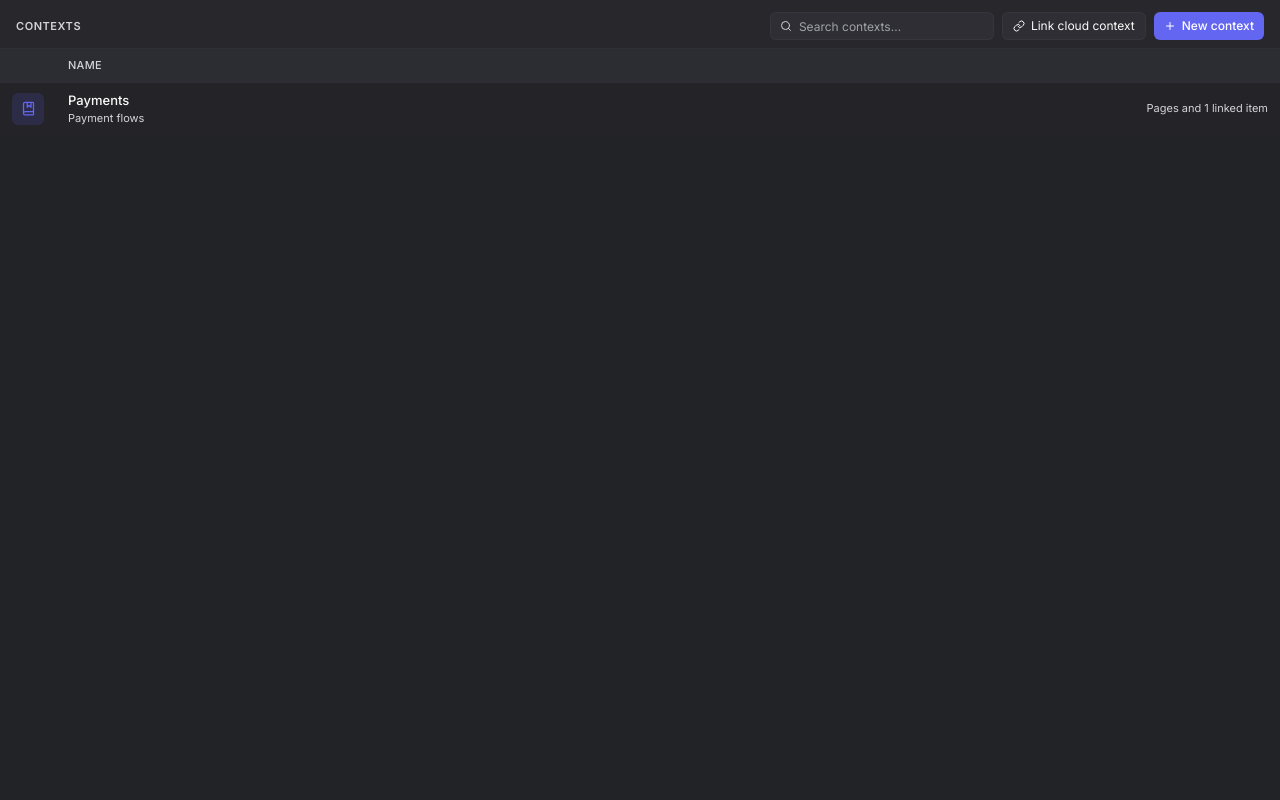
Scenario: Contexts › shows pages as a folder tree and linked material by name
What coordinates should you click on to do the following:
click the text "Payments"
I would click on:
 (99, 100)
Its box is [68, 92, 129, 108].
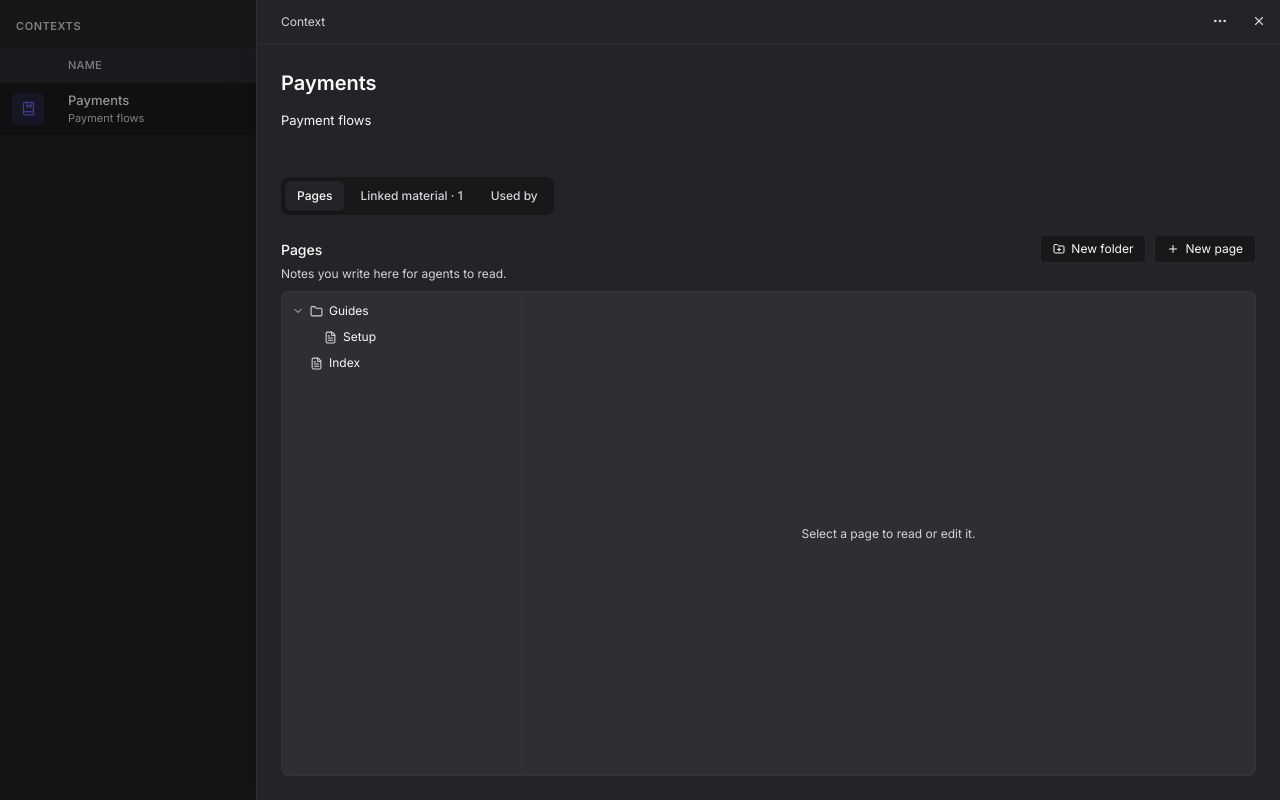
Expected: the text "Guides" is shown, [329, 302, 369, 320]
Expected: the text "Setup" is shown, [343, 328, 376, 346]
Expected: the text "Index" is shown, [329, 354, 360, 372]
What coordinates should you click on to do the following:
click the tab "Linked material · 1"
I would click on:
 (412, 196)
Its box is [348, 181, 475, 211].
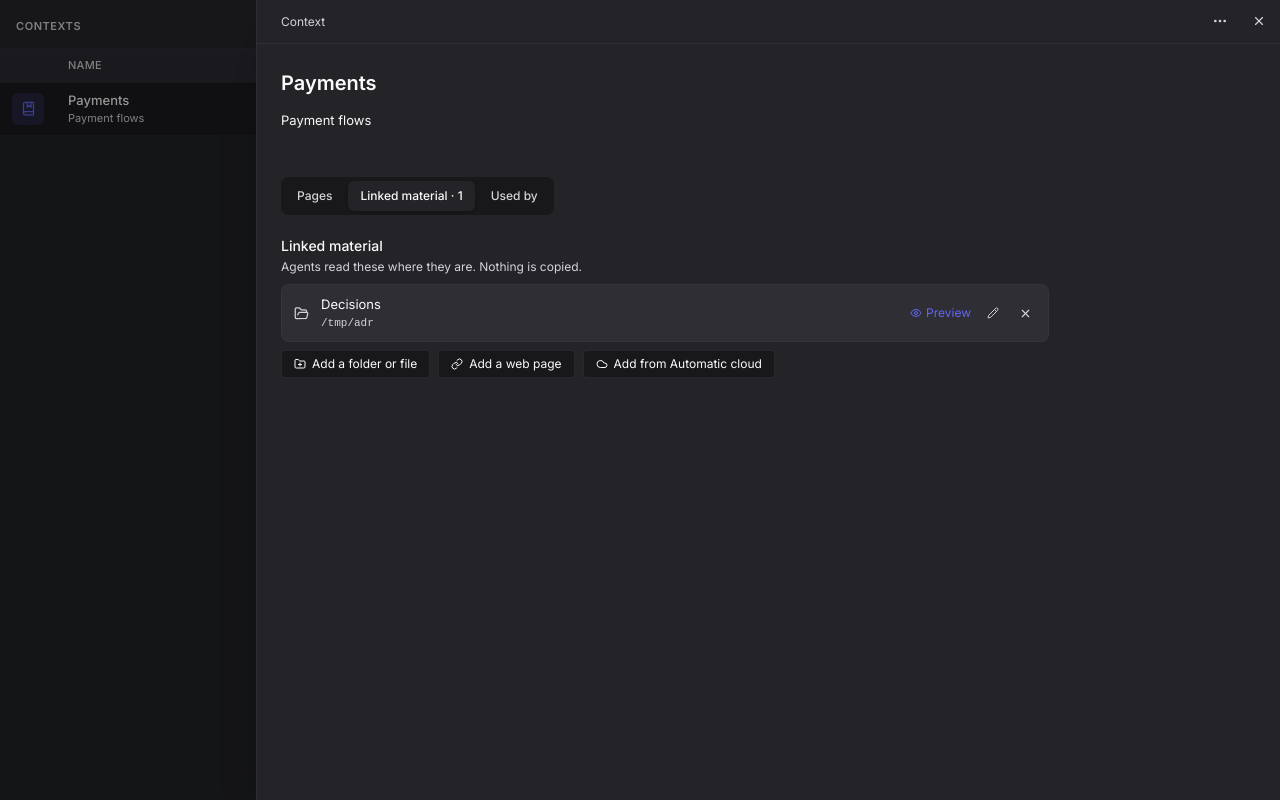
Expected: the text "Decisions" is shown, [321, 295, 381, 314]
Expected: the text "/tmp/adr" is shown, [321, 316, 374, 328]
What coordinates should you click on to do the following:
click the tab "Used by"
I would click on:
 (514, 196)
Its box is [479, 181, 550, 211].
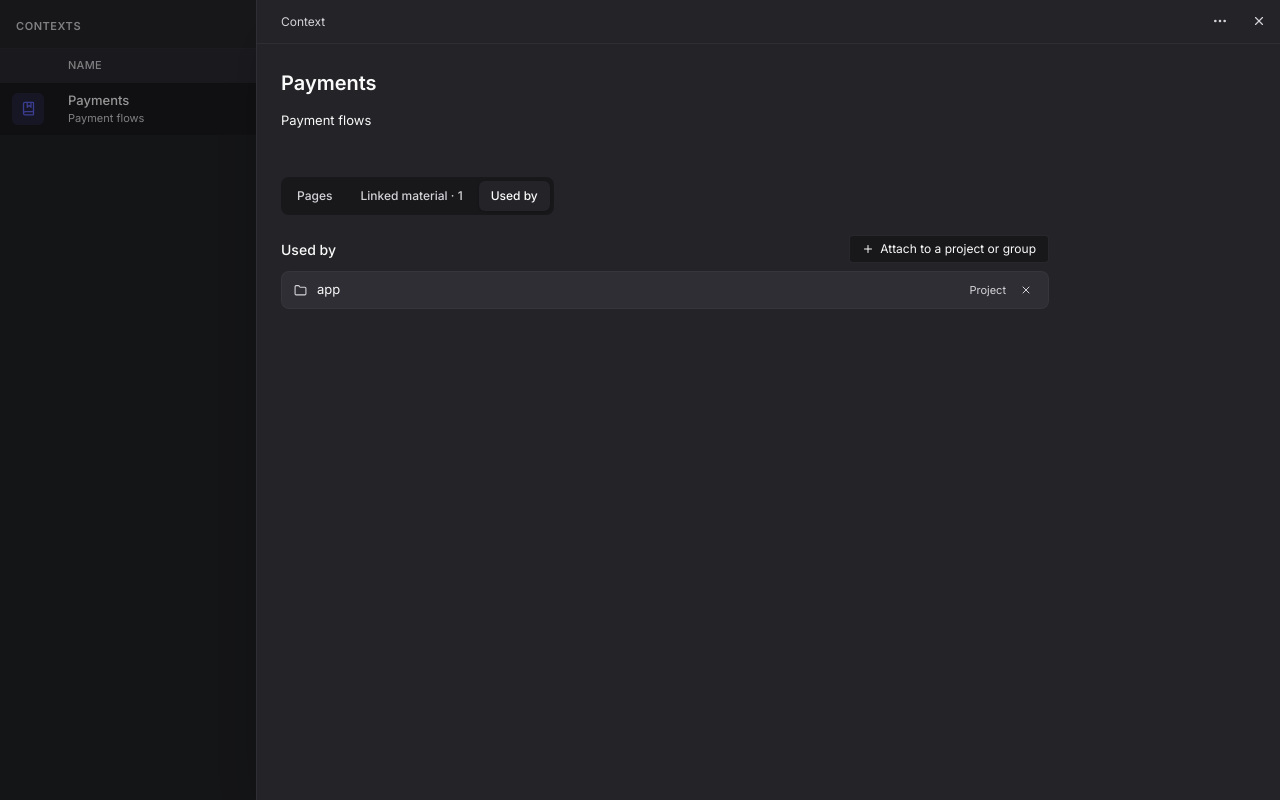
Expected: the text "app" is shown, [317, 281, 340, 297]
